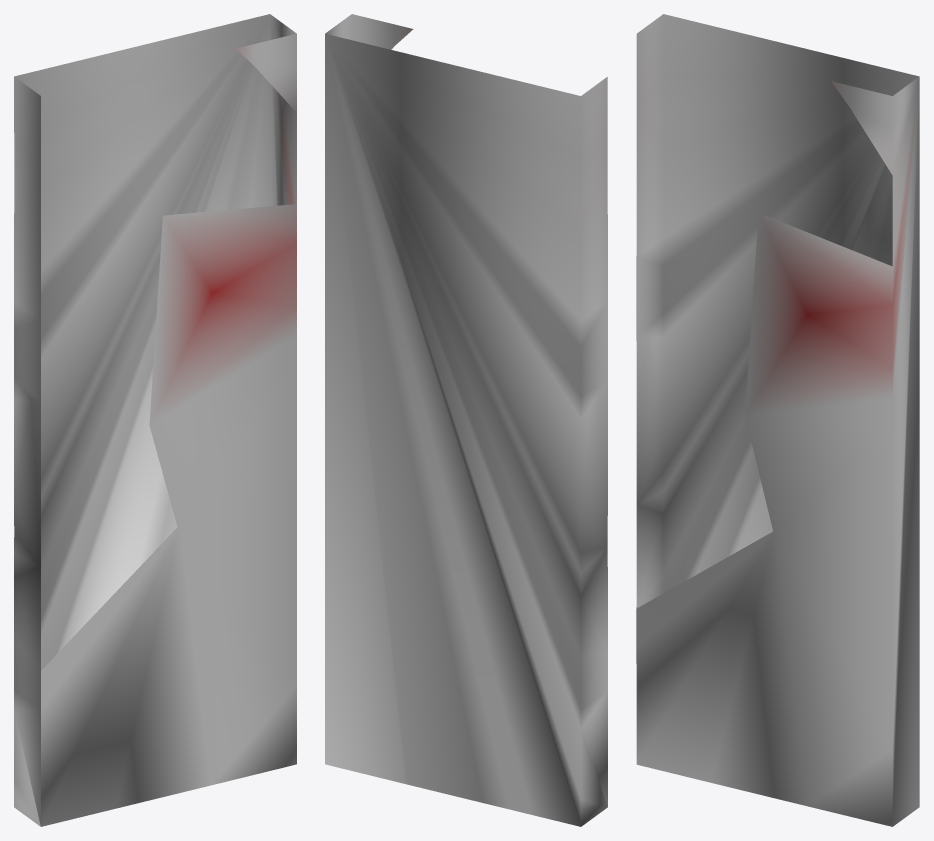
Rendered from SM_FA_Factory_W110_H300.fbx.
3 renders of one model, left to right at view 1: azimuth 30°, elevation 25°; view 2: azimuth 150°, elevation 25°; view 3: azimuth 330°, elevation 25°, orthographic.
Parts seen in each view (by area): view 1: SM_FA_Factory_W110_H300; view 2: SM_FA_Factory_W110_H300; view 3: SM_FA_Factory_W110_H300.
Part boxes in pixels (left/top/right/bottom): SM_FA_Factory_W110_H300: left=14, top=14, right=296, bottom=826; SM_FA_Factory_W110_H300: left=325, top=14, right=607, bottom=826; SM_FA_Factory_W110_H300: left=636, top=14, right=919, bottom=826.
Bounding box in the file's own units: 110 × 20 × 300.
